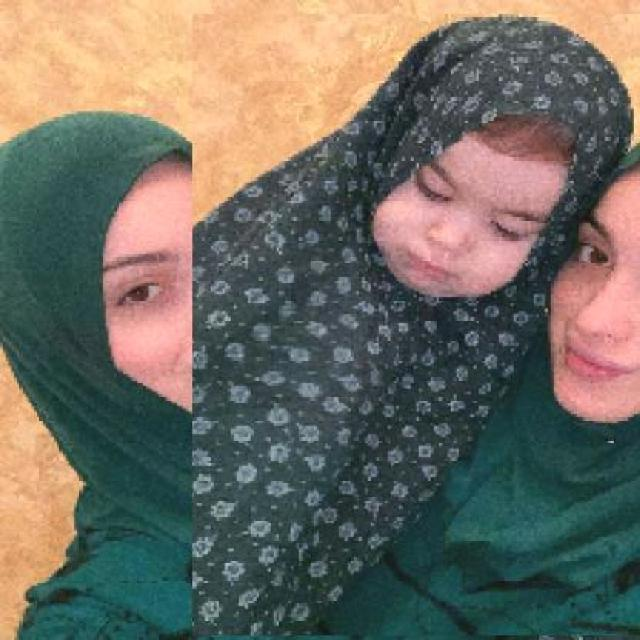child: (191, 14, 640, 637)
